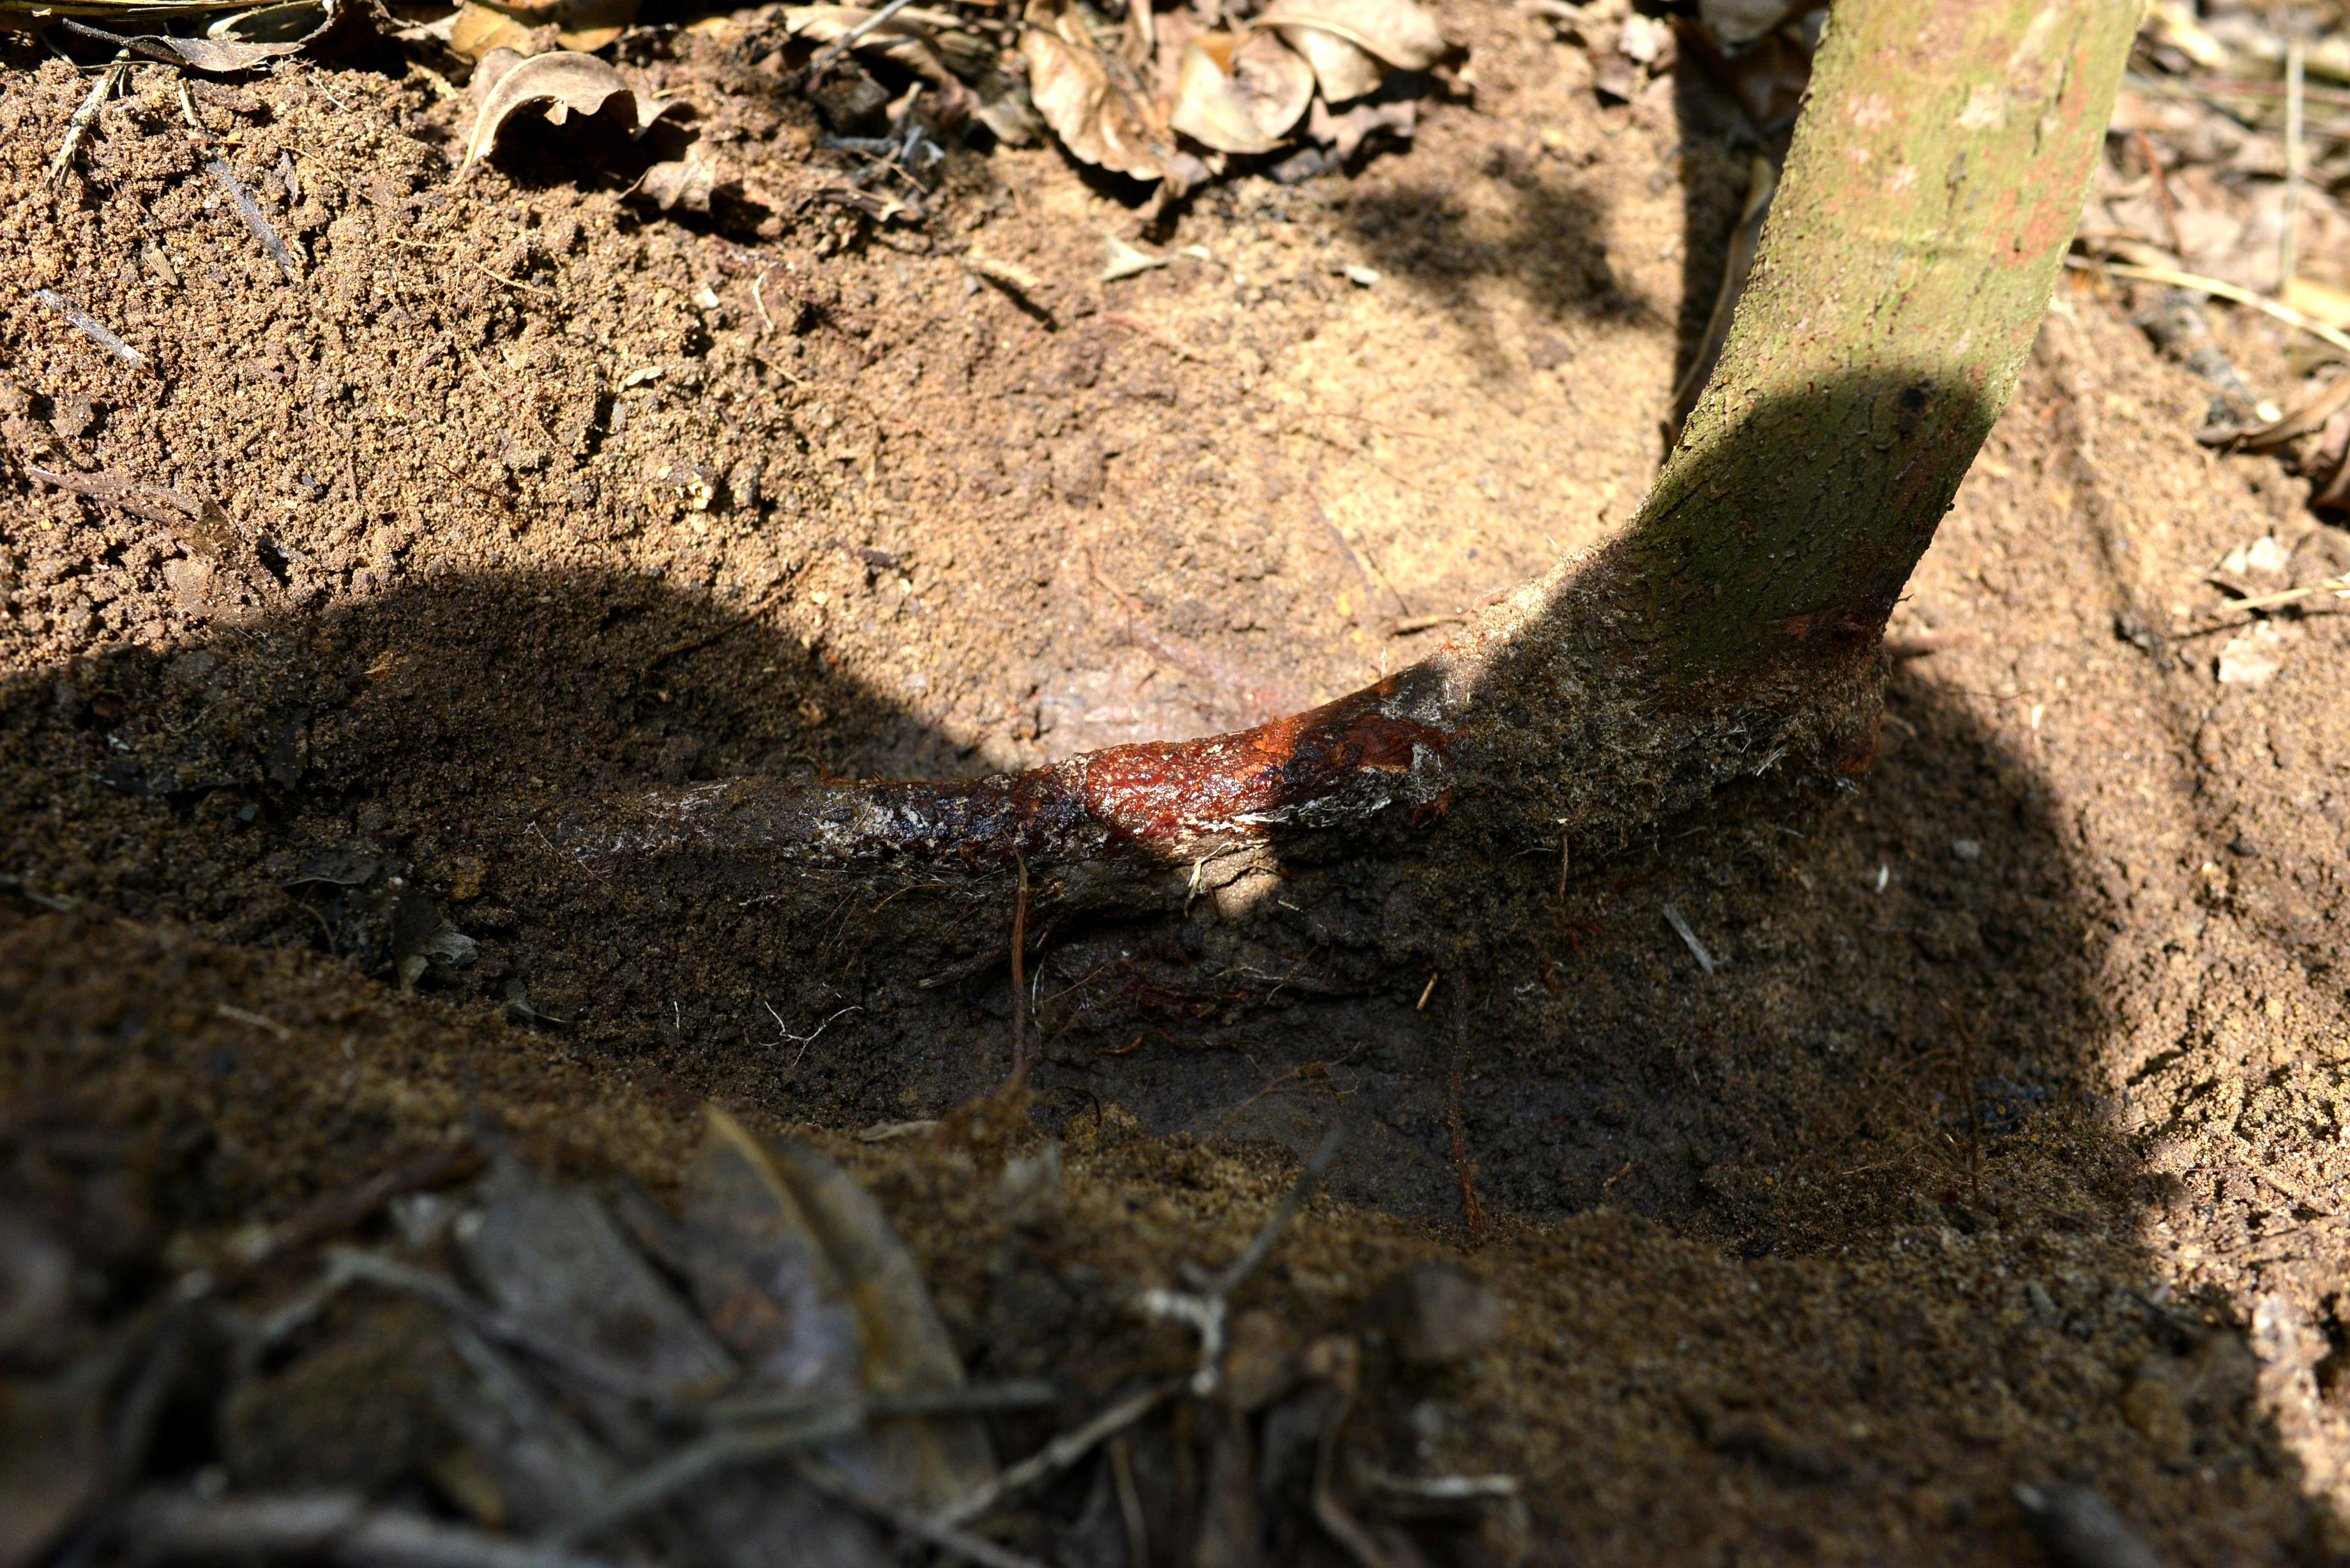Ganoderma - Mycelium: (1503, 639, 1759, 838), (562, 779, 730, 861), (786, 791, 945, 877), (1393, 663, 1477, 812)
Red Root Rot - Secretion: (964, 675, 1389, 864)
